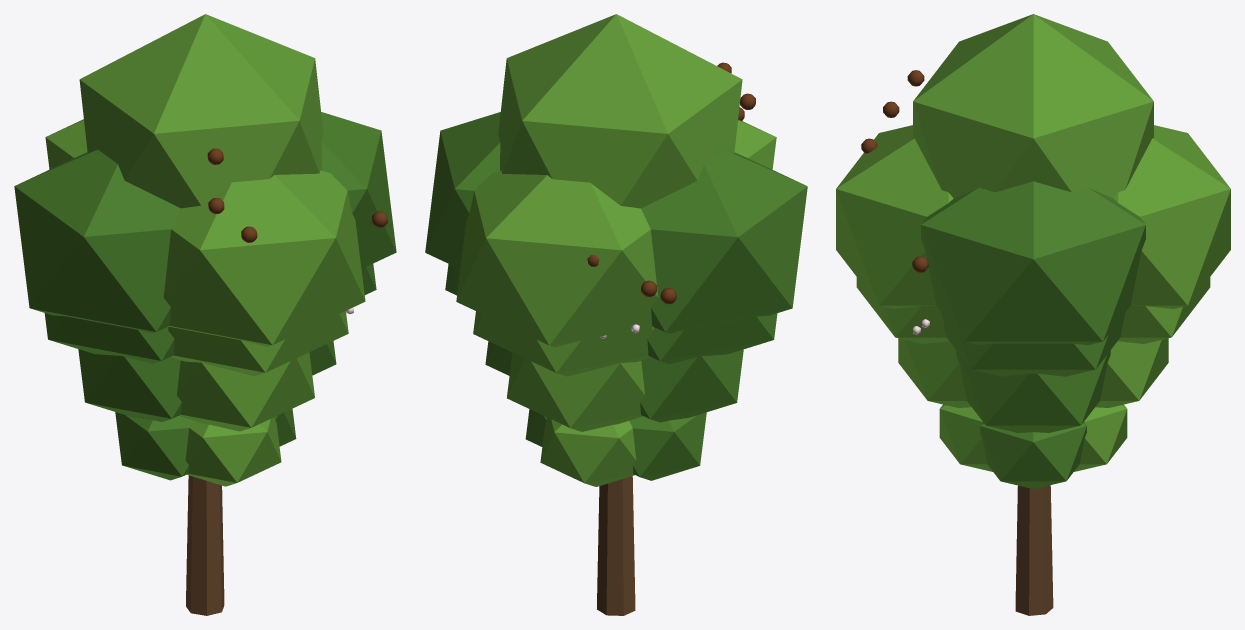
File: Crop_Nut_Chestnut.fbx
3 renders of one model, left to right at view 1: azimuth 30°, elevation 25°; view 2: azimuth 150°, elevation 25°; view 3: azimuth 270°, elevation 25°, orthographic.
Visible parts, largest first — view 1: Crop_Nut_Chestnut__S4, Crop_Nut_Chestnut__S2, Crop_Nut_Chestnut__S1, Crop_Nut_Chestnut__S3; view 2: Crop_Nut_Chestnut__S4, Crop_Nut_Chestnut__S2, Crop_Nut_Chestnut__S1, Crop_Nut_Chestnut__S3; view 3: Crop_Nut_Chestnut__S4, Crop_Nut_Chestnut__S2, Crop_Nut_Chestnut__S1, Crop_Nut_Chestnut__S3.
Part boxes in pixels (bbox=[...]): Crop_Nut_Chestnut__S4: bbox=[14, 14, 396, 615]; Crop_Nut_Chestnut__S2: bbox=[78, 341, 336, 431]; Crop_Nut_Chestnut__S1: bbox=[115, 408, 296, 486]; Crop_Nut_Chestnut__S3: bbox=[44, 264, 376, 376]; Crop_Nut_Chestnut__S4: bbox=[425, 14, 807, 615]; Crop_Nut_Chestnut__S2: bbox=[485, 341, 743, 431]; Crop_Nut_Chestnut__S1: bbox=[525, 409, 706, 486]; Crop_Nut_Chestnut__S3: bbox=[445, 264, 777, 376]; Crop_Nut_Chestnut__S4: bbox=[836, 14, 1230, 615]; Crop_Nut_Chestnut__S2: bbox=[898, 338, 1168, 432]; Crop_Nut_Chestnut__S1: bbox=[939, 404, 1127, 488]; Crop_Nut_Chestnut__S3: bbox=[856, 277, 1210, 376].
Size of the model in its own units: 0.6543 by 1.05 by 0.6356.
